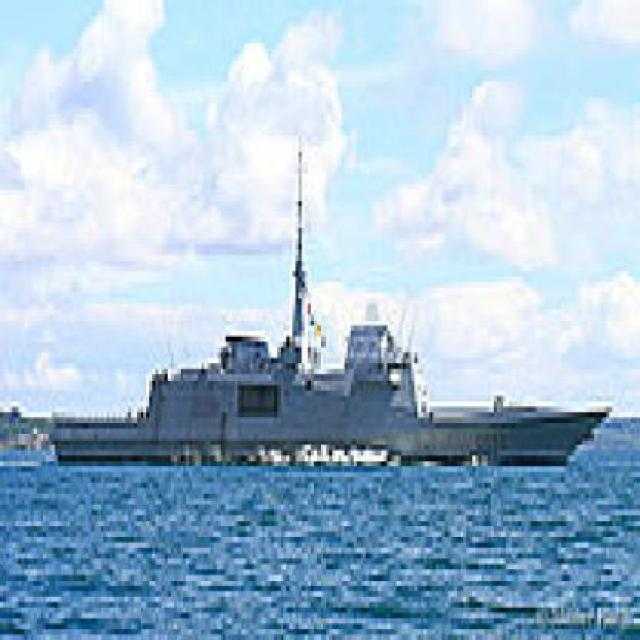warship2: (31, 137, 626, 494)
